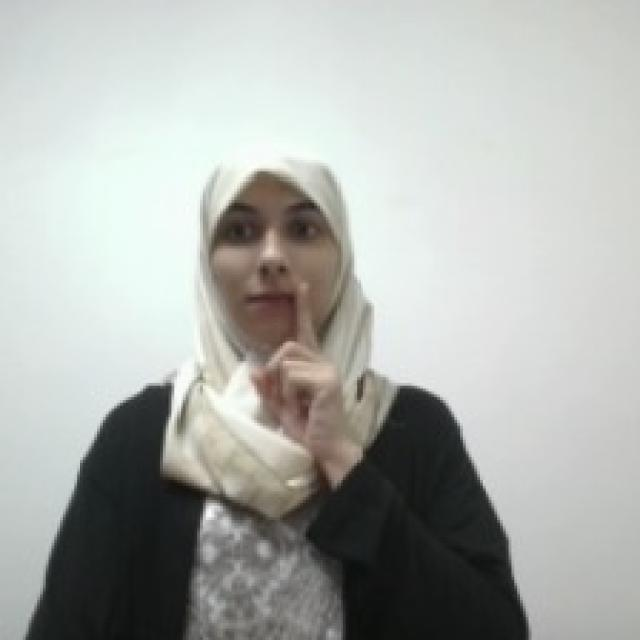mother: (245, 277, 347, 453)
